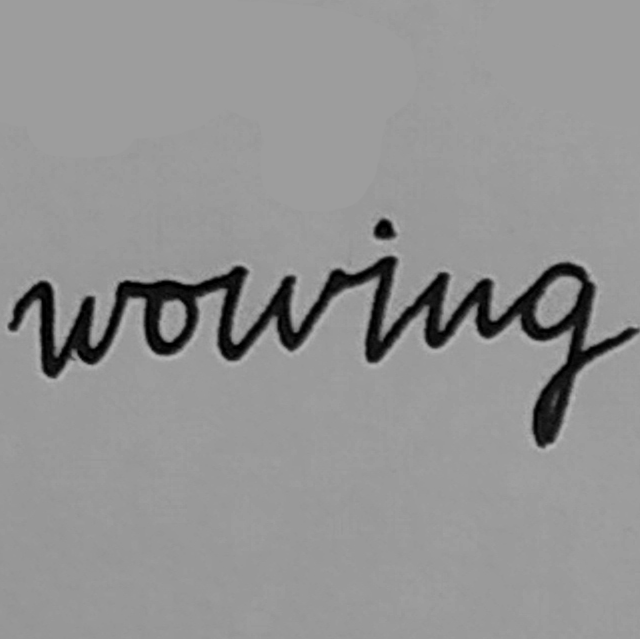g: (512, 257, 597, 452)
i: (355, 215, 406, 367)
n: (417, 265, 500, 352)
o: (135, 275, 204, 365)
w: (209, 259, 348, 365), (31, 272, 134, 378)
